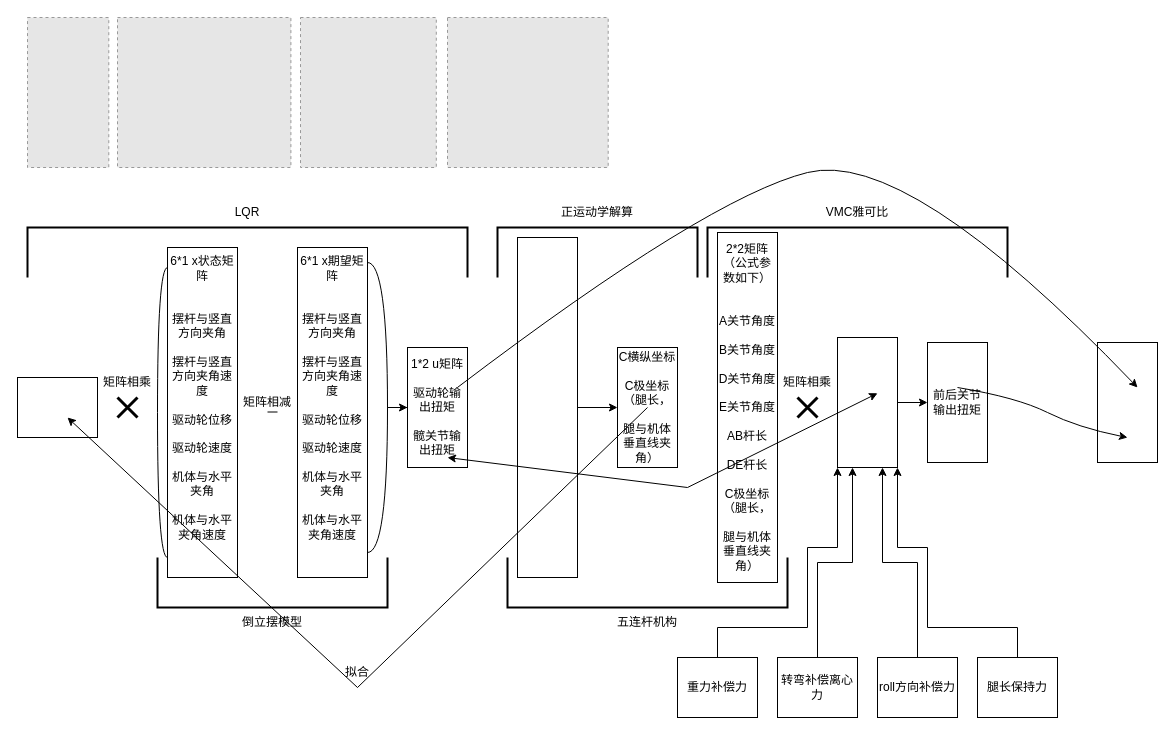
Some shapes in this 1175 by 735 pixel diagram are drawn without their labels. Grey dashed boxes stand in for pictures. Here are the shapes that lost their labels. From the top down, the box of each, then its label:
(16, 376, 98, 438): 2*6 K矩阵
(516, 236, 578, 578): A关节坐标（0，0）及角度 B关节坐标及角度 D关节坐标及角度 E关节坐标及角度 AB杆长 BC杆长 CD杆长 DE杆长 EA杆长
(836, 336, 898, 468): 2*1矩阵 髋关节输出扭矩 沿腿支持力
(1096, 342, 1158, 462): 轮毂电机最终输出扭矩 关节电机最终输出扭矩
